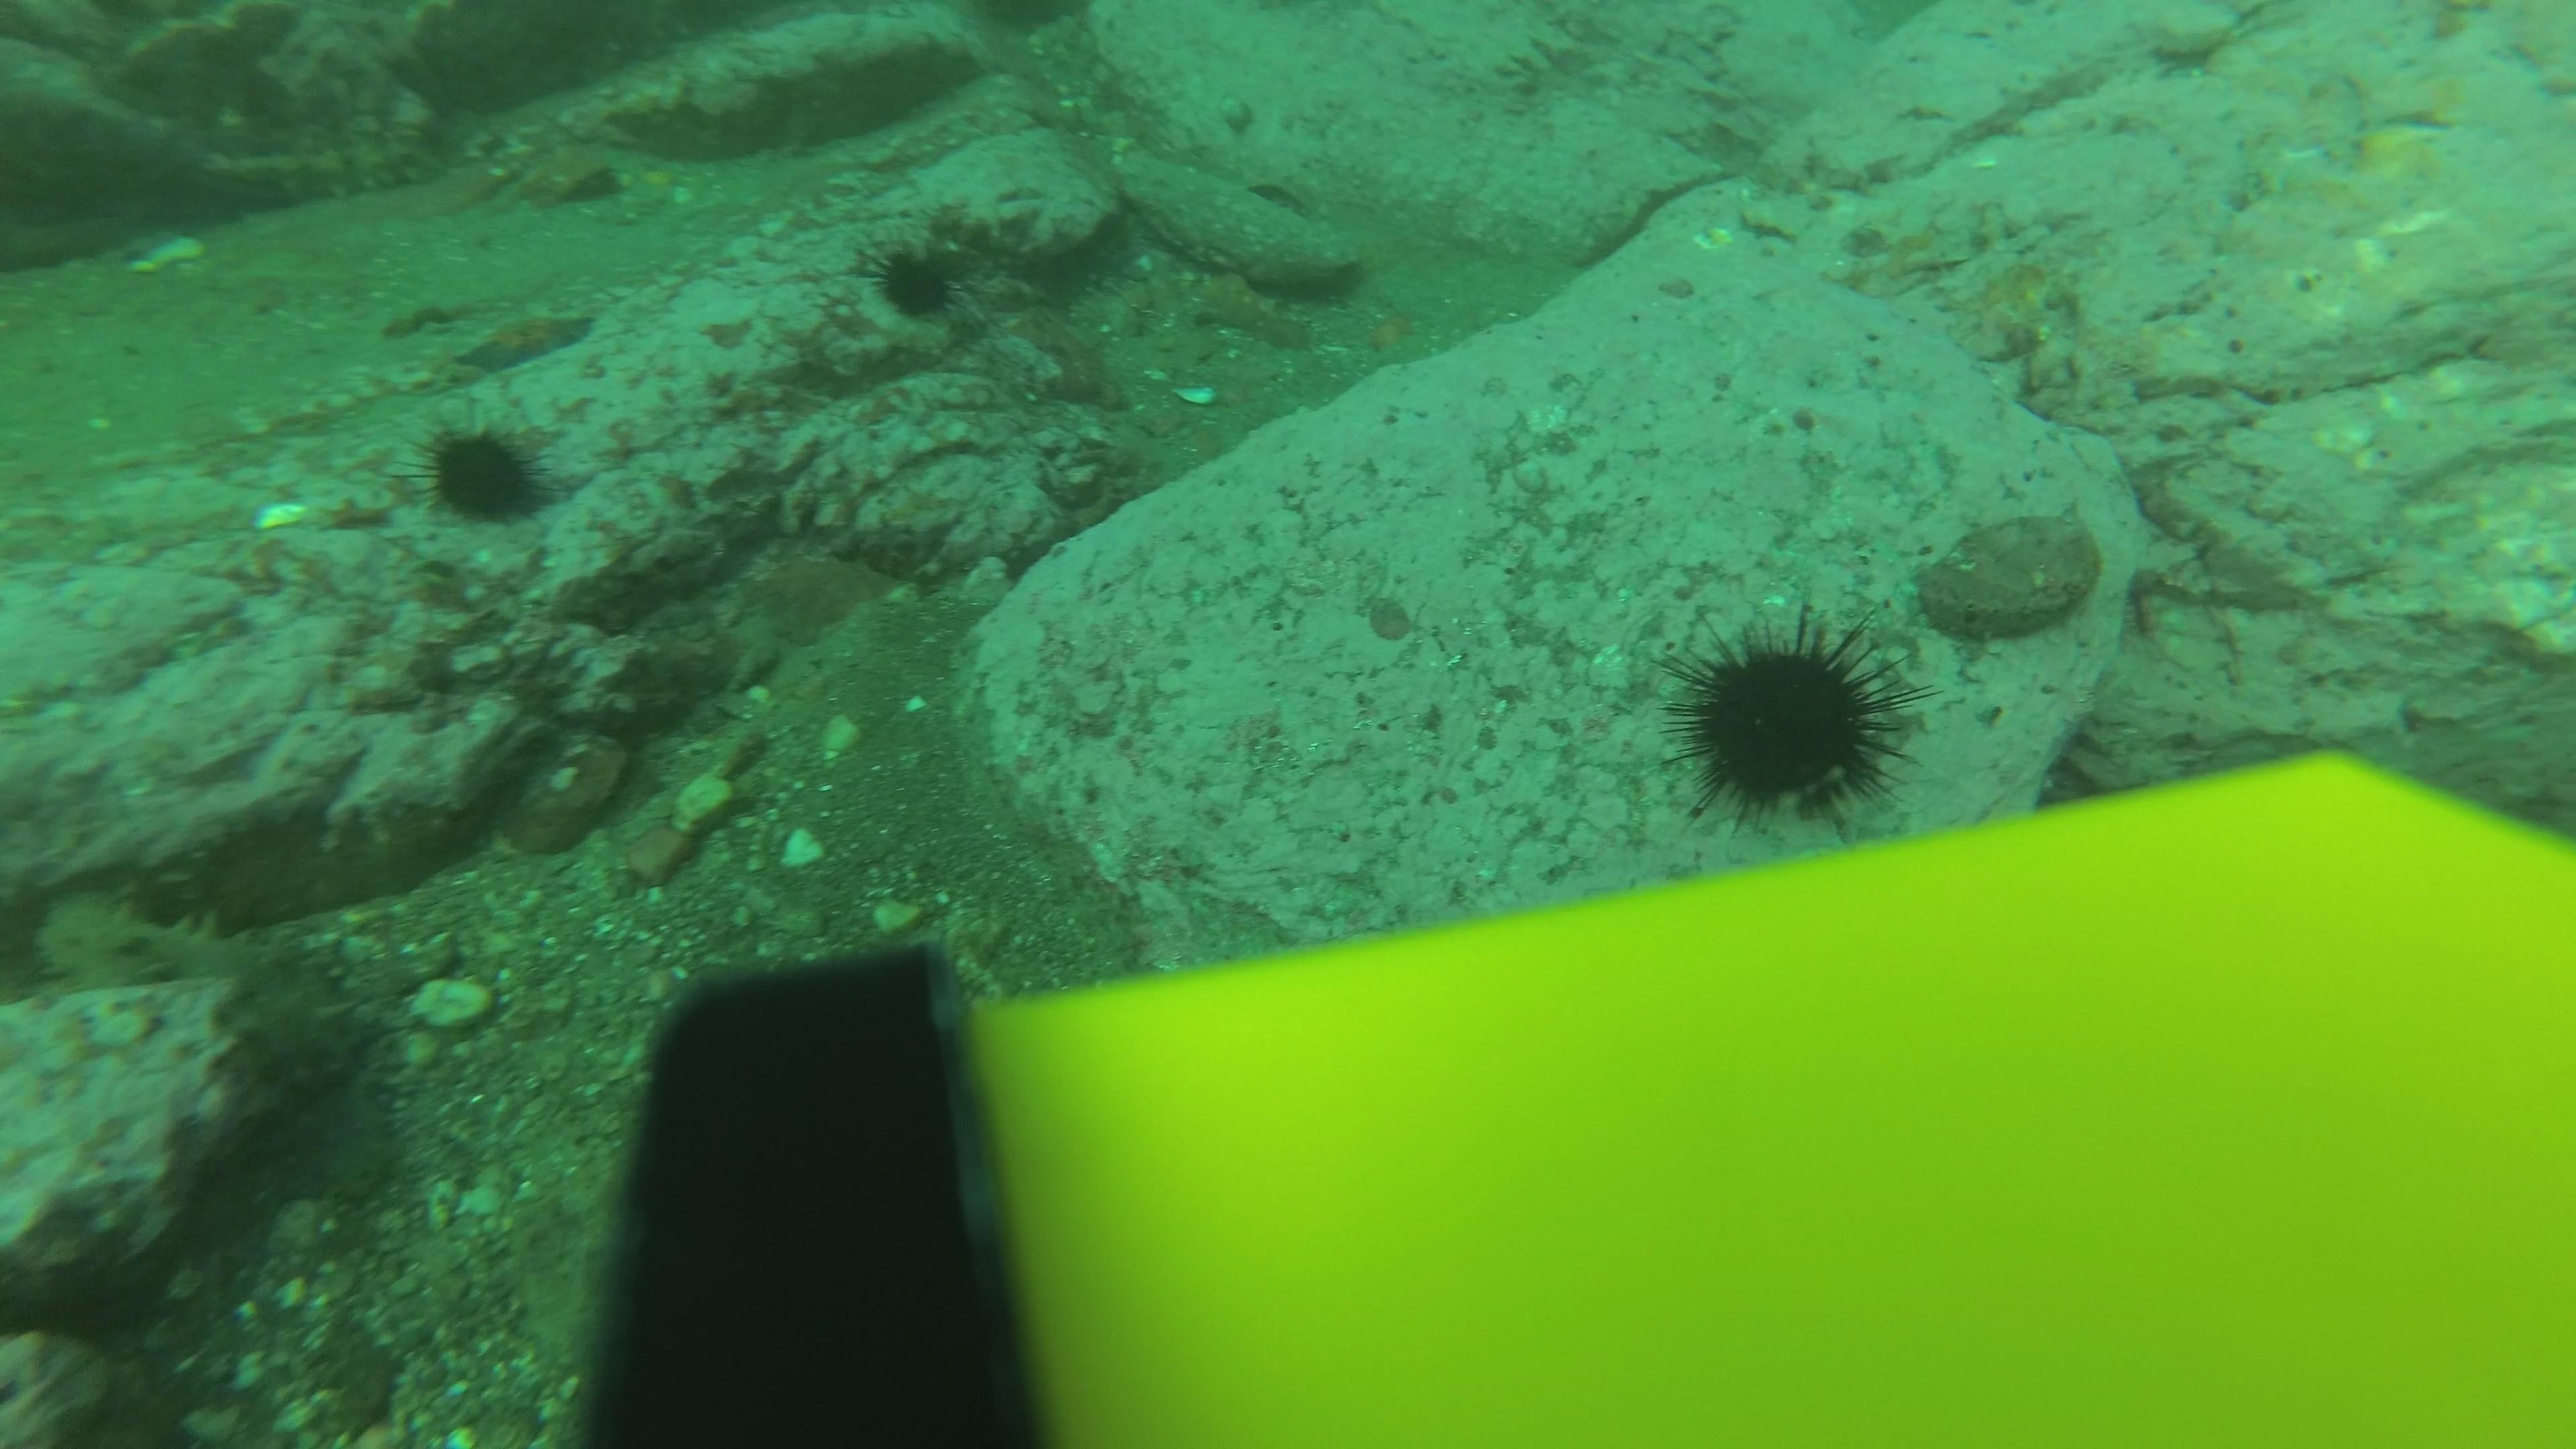echinus: (1660, 603, 1920, 824), (414, 416, 556, 531), (863, 232, 971, 326)
holothurian: (212, 920, 423, 1238), (28, 885, 258, 1000), (180, 129, 433, 211), (1171, 272, 1327, 347), (1010, 311, 1125, 400)
starfish: (446, 303, 598, 377), (1355, 299, 1438, 372)
